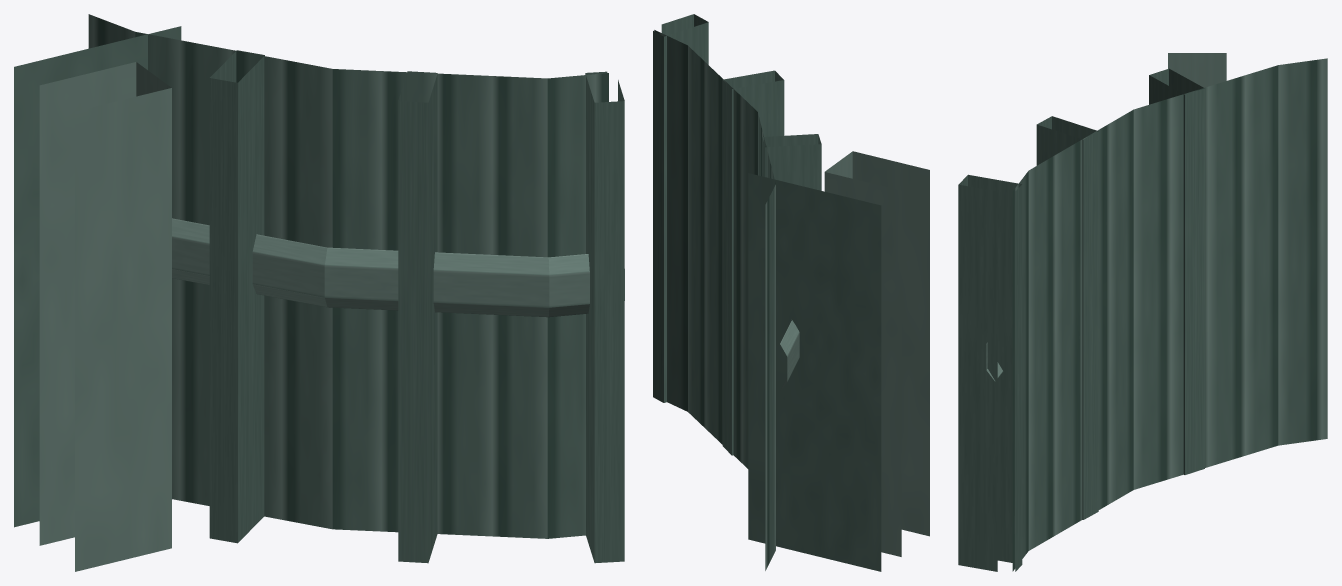
File: cell_191.obj
3 views of the same model, side by side, from view 1: azimuth 30°, elevation 25°; view 2: azimuth 150°, elevation 25°; view 3: azimuth 270°, elevation 25° (orthographic). The views are drawn at different scales.
Bounding box in the file's own units: 1 × 1 × 0.8788.
